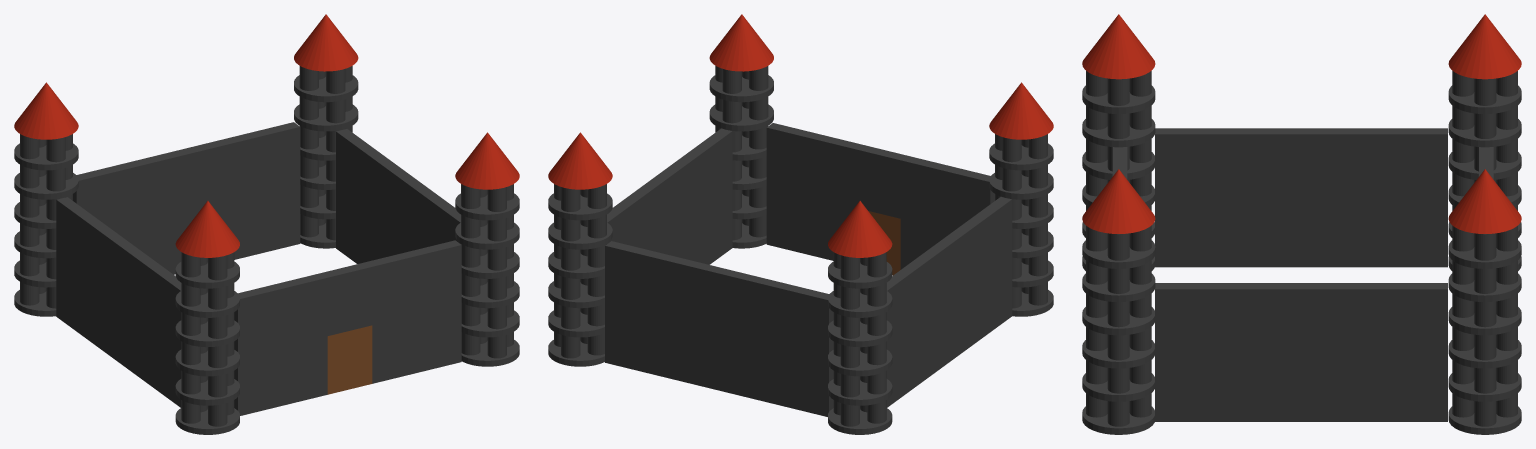
The model's file is fortress.glb.
3 views of the same model, side by side, from view 1: azimuth 30°, elevation 25°; view 2: azimuth 150°, elevation 25°; view 3: azimuth 270°, elevation 25° (orthographic). The views are drawn at different scales.
Visible parts, largest first — view 1: roof.001, roof.003, roof, roof.002, disk.012, disk.015, disk.013, disk.016, disk.005, disk.014, disk.017, disk.004 (+12 smaller); view 2: roof.003, roof.001, roof, roof.002, disk.005, disk.002, disk.004, disk.001, disk.012, disk, disk.003, disk.013 (+12 smaller); view 3: roof, roof.002, roof.001, roof.003, disk.004, disk.013, disk.006, disk.011, disk.018, disk.005, disk.007, disk.008 (+68 smaller).
Boxes of the visible parts, x1,y1,x2,y2 form: roof.001: [294, 14, 358, 71]; roof.003: [455, 132, 519, 189]; roof: [14, 82, 78, 139]; roof.002: [175, 201, 239, 257]; disk.012: [175, 261, 239, 288]; disk.015: [175, 349, 239, 376]; disk.013: [175, 291, 239, 317]; disk.016: [175, 379, 239, 405]; disk.005: [14, 143, 78, 170]; disk.014: [175, 320, 239, 347]; disk.017: [175, 408, 239, 434]; disk.004: [14, 173, 78, 199]; roof.003: [709, 14, 773, 71]; roof.001: [548, 132, 612, 189]; roof: [828, 201, 892, 257]; roof.002: [989, 82, 1053, 139]; disk.005: [828, 261, 892, 288]; disk.002: [828, 349, 892, 376]; disk.004: [828, 291, 892, 317]; disk.001: [828, 379, 892, 405]; disk.012: [989, 143, 1053, 170]; disk: [828, 408, 892, 434]; disk.003: [828, 320, 892, 347]; disk.013: [989, 173, 1053, 199]; roof: [1448, 14, 1521, 79]; roof.002: [1082, 14, 1155, 79]; roof.001: [1448, 169, 1521, 233]; roof.003: [1082, 169, 1155, 233]; disk.004: [1448, 119, 1521, 147]; disk.013: [1082, 119, 1155, 147]; disk.006: [1448, 240, 1521, 268]; disk.011: [1448, 406, 1521, 434]; disk.018: [1082, 240, 1155, 268]; disk.005: [1448, 85, 1521, 113]; disk.007: [1448, 273, 1521, 302]; disk.008: [1448, 307, 1521, 335].
Size of the model in its own units: 120 by 75.5 by 120.
